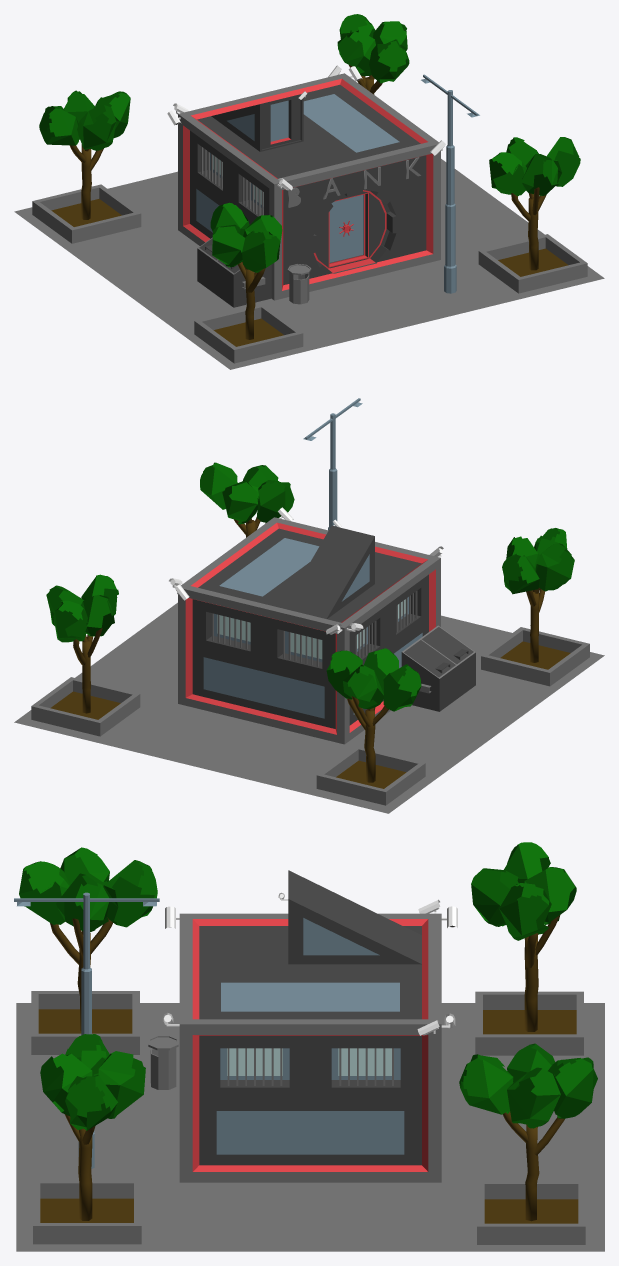
File: uploads_files_2157321_Bank.fbx
3 renders of one model, top to bottom at view 1: azimuth 30°, elevation 25°; view 2: azimuth 150°, elevation 25°; view 3: azimuth 270°, elevation 25°, orthographic. The views are drawn at different scales.
Visible parts, largest first — view 1: Bank; view 2: Bank; view 3: Bank.
Boxes of the visible parts, x1,y1,x2,y2 form: Bank: [14, 14, 604, 369]; Bank: [14, 398, 604, 813]; Bank: [14, 842, 604, 1251].
Bounding box in the file's own units: 1791 × 924 × 1792.
